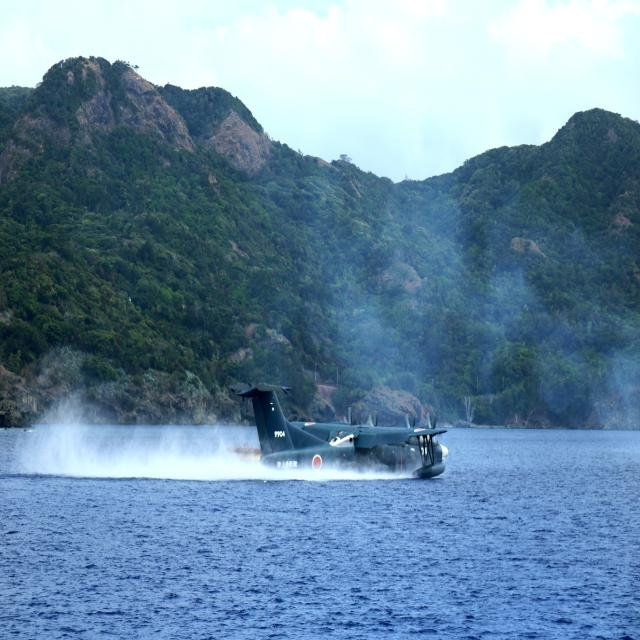MIL_Plane: (226, 381, 448, 478)
